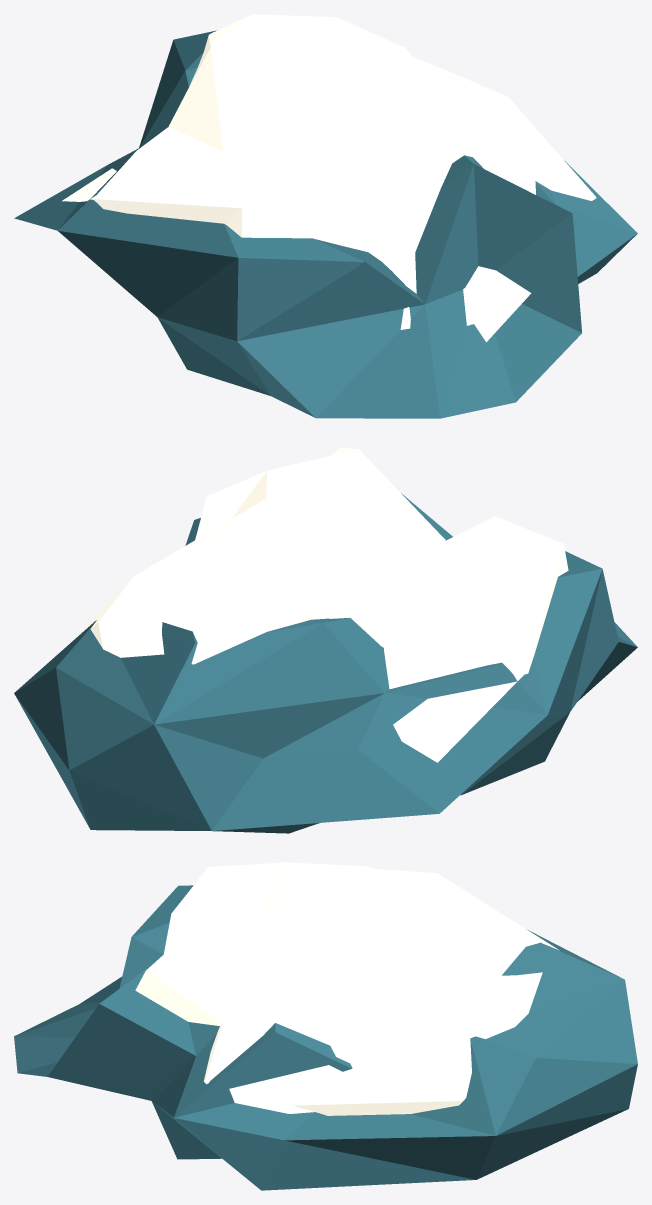
Rendered from RockAsset2.fbx.
3 views of the same model, one above another, from view 1: azimuth 30°, elevation 25°; view 2: azimuth 150°, elevation 25°; view 3: azimuth 270°, elevation 25° (orthographic). The views are drawn at different scales.
Parts seen in each view (by area): view 1: Rock2; view 2: Rock2; view 3: Rock2.
Boxes of the visible parts, x1,y1,x2,y2 form: Rock2: (14, 14, 637, 418); Rock2: (14, 447, 637, 833); Rock2: (14, 862, 637, 1190).
Size of the model in its own units: 732 by 440 by 960.
